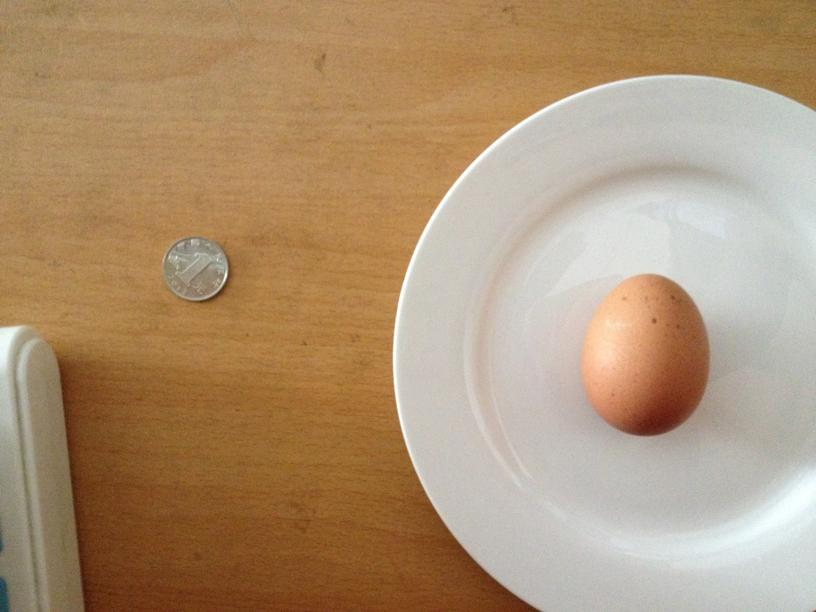coin: (163, 234, 230, 303)
egg: (580, 272, 711, 433)
